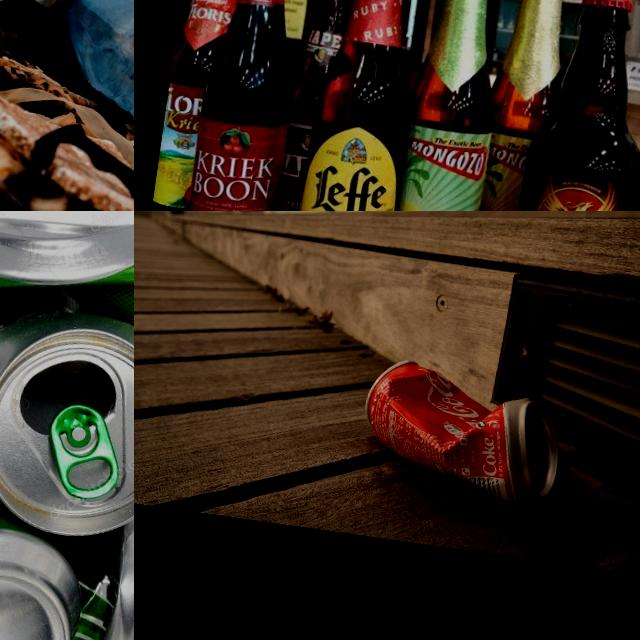aba de lata: (42, 399, 130, 504)
garrafa de vidro: (288, 0, 441, 211), (174, 0, 320, 211), (498, 0, 640, 211), (379, 0, 521, 211), (467, 0, 575, 211), (147, 0, 249, 211), (268, 0, 360, 211)
garrafa plástica: (38, 0, 134, 211)
lata: (0, 211, 134, 557), (353, 352, 572, 513), (0, 443, 134, 640)
